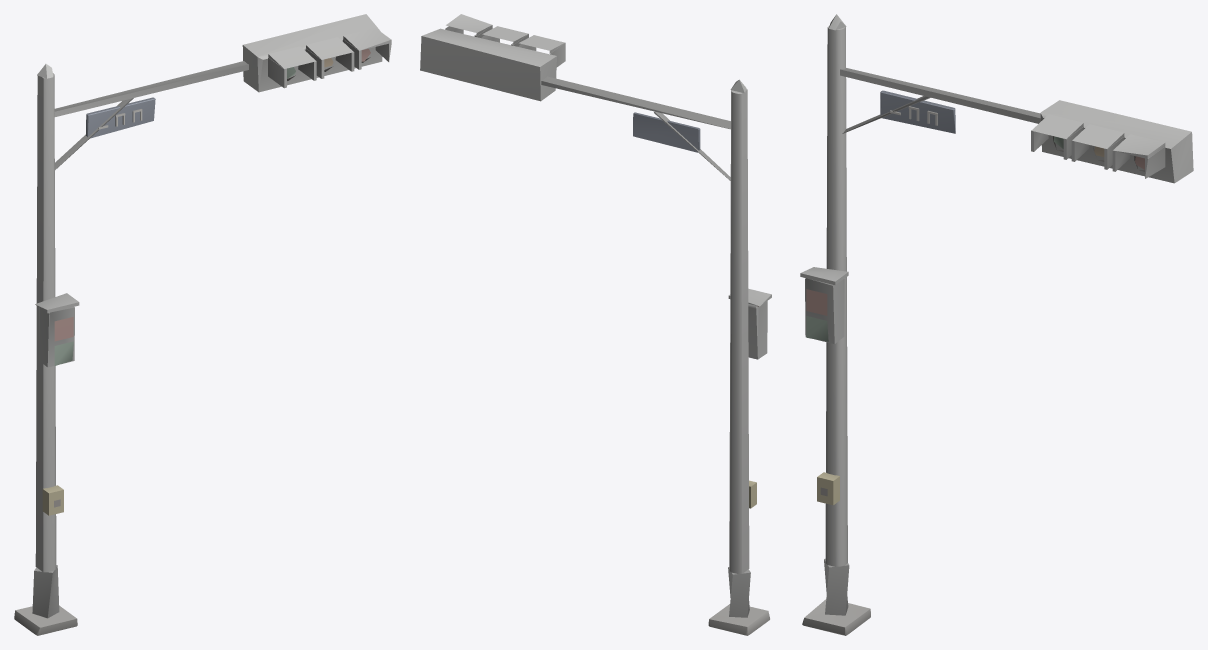
Rendered from signal.lod2.glb.
3 views of the same model, side by side, from view 1: azimuth 30°, elevation 25°; view 2: azimuth 150°, elevation 25°; view 3: azimuth 330°, elevation 25° (orthographic). The views are drawn at different scales.
Size of the model in its own units: 3.23 by 4.99 by 0.6755.
